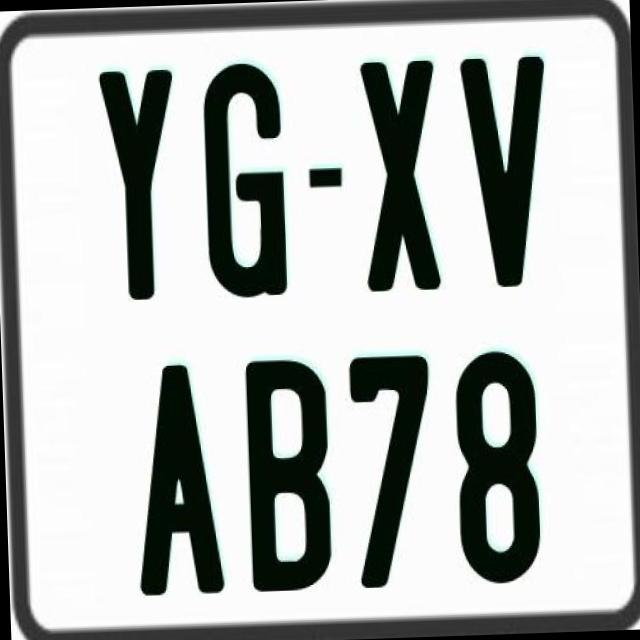7: (344, 352, 438, 592)
8: (452, 349, 547, 591)
A: (132, 360, 226, 592)
B: (242, 356, 330, 592)
G: (202, 58, 294, 302)
V: (459, 55, 550, 298)
X: (361, 55, 446, 286)
Y: (95, 64, 182, 304)
